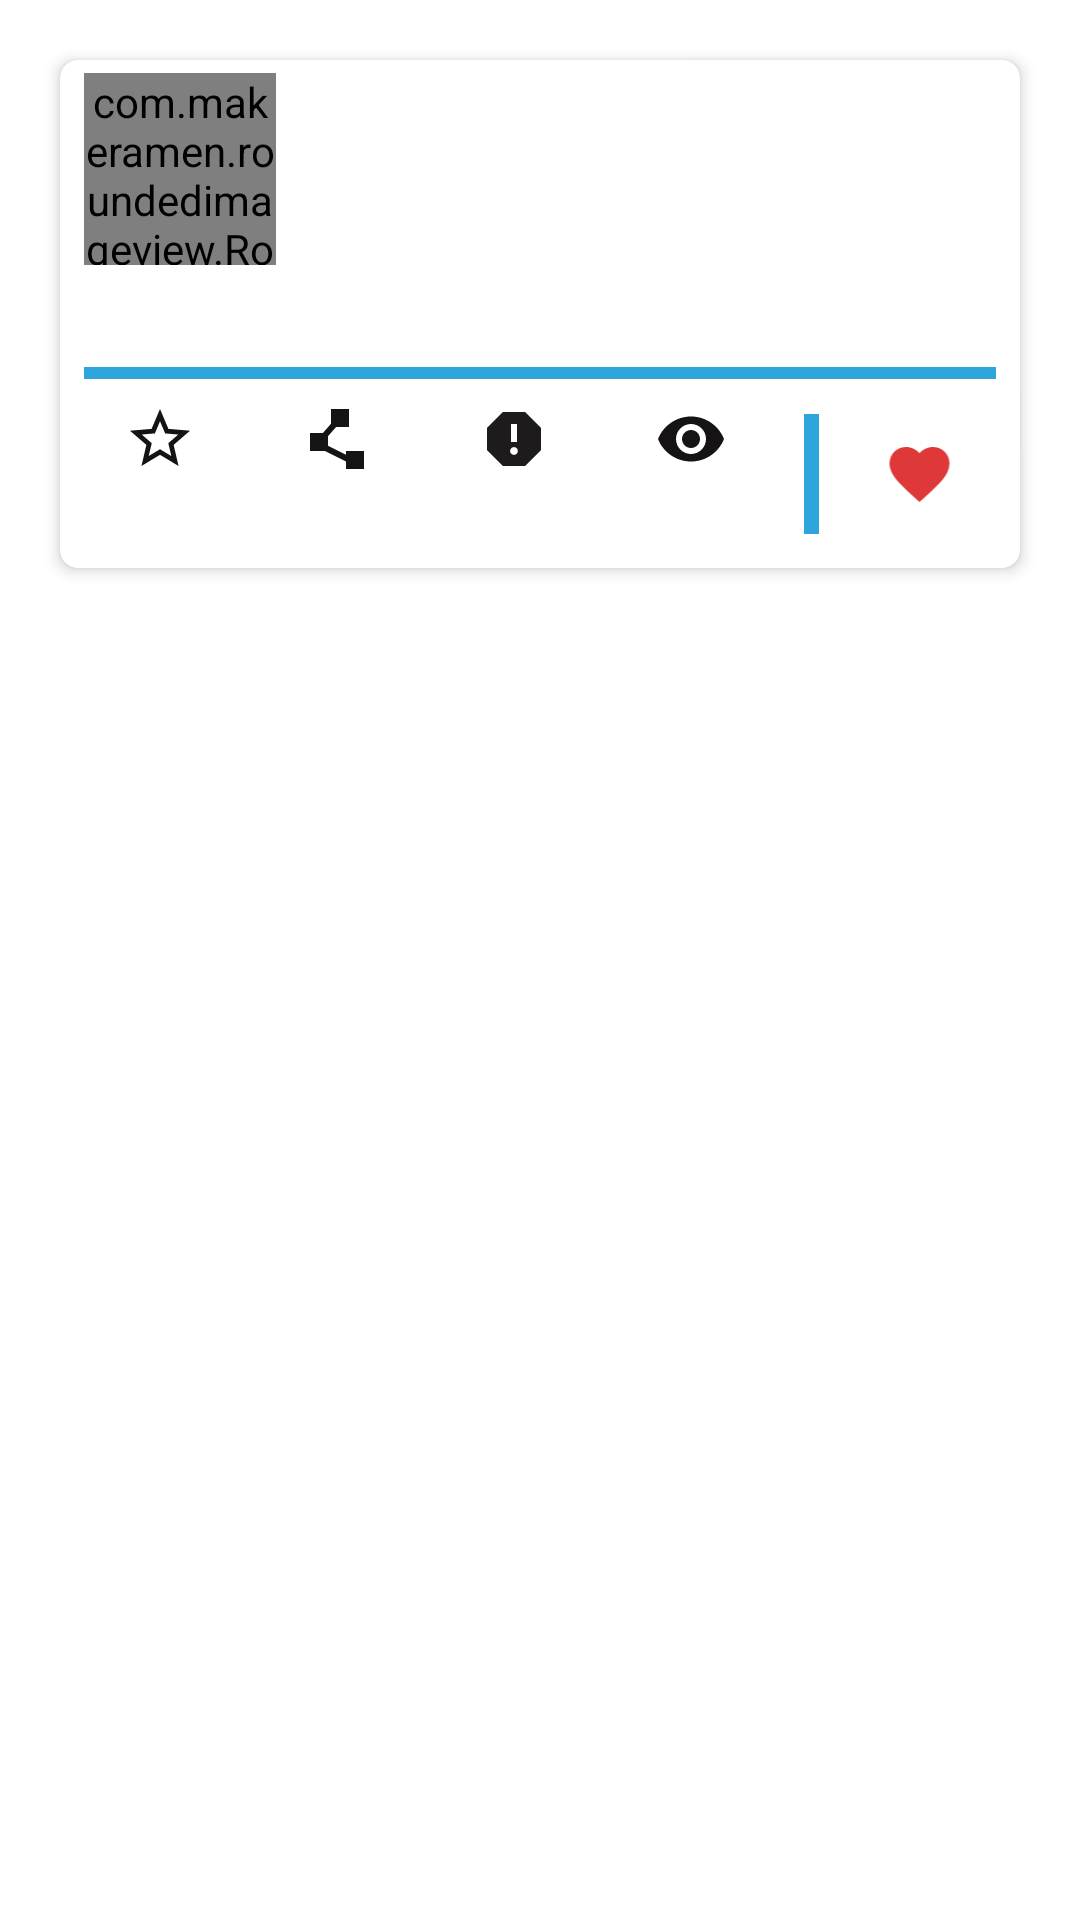

Icon bounding boxes for this 1080px x 1920px phone screenshot, format bbox(x1, y1, x2, y2):
favorite: bbox(889, 447, 950, 502)
